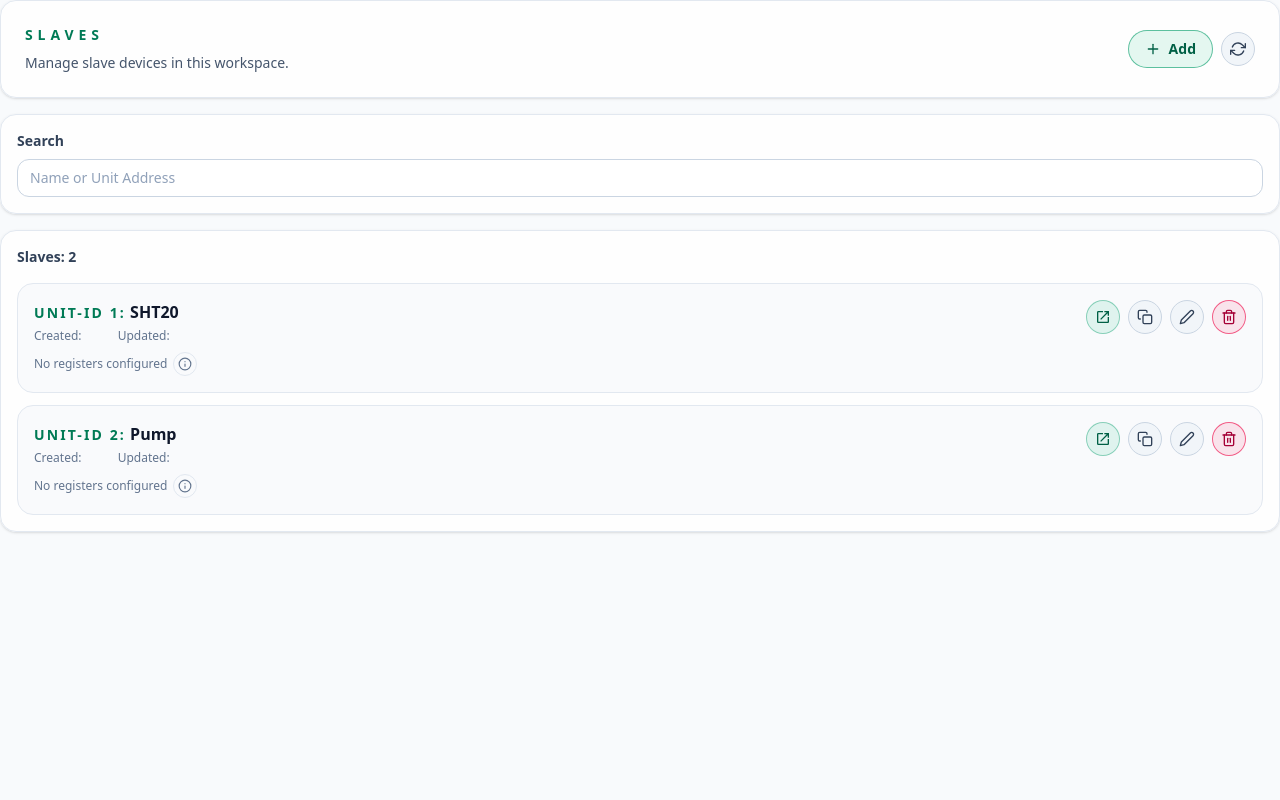
Test: SlavesPage › opens the clone dialog pre-filled with a free name and unit id
Expected: the list item "Unit-ID 1: SHT20 Created: Updated: No registers configured" is shown, [17, 283, 1263, 393]
What coordinates should you click on to do the following:
click the button named "clone"
I would click on:
 (1145, 317)
Its box is [1128, 300, 1162, 334].
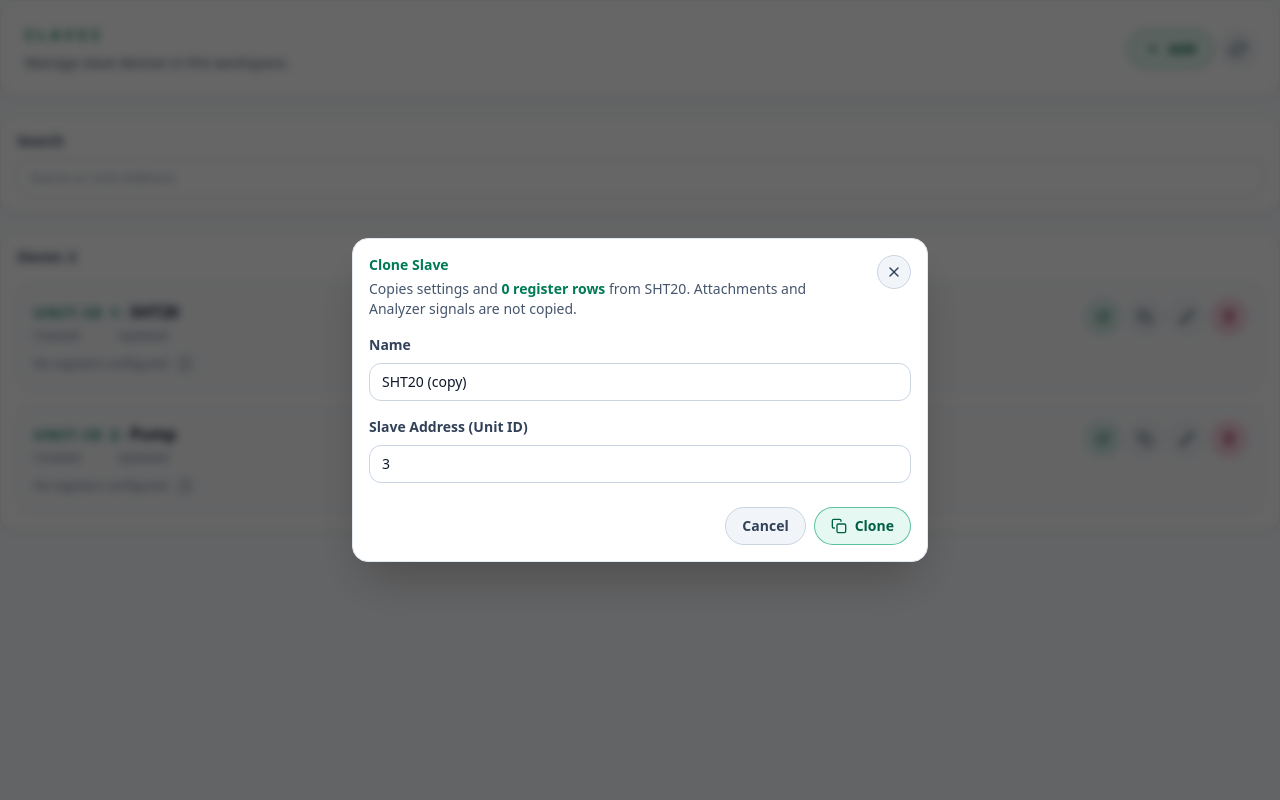
Expected: the field labelled "Name" holds "SHT20 (copy)", [369, 363, 911, 401]
Expected: the number field labelled "Slave Address (Unit ID)" holds "3", [369, 445, 911, 483]
